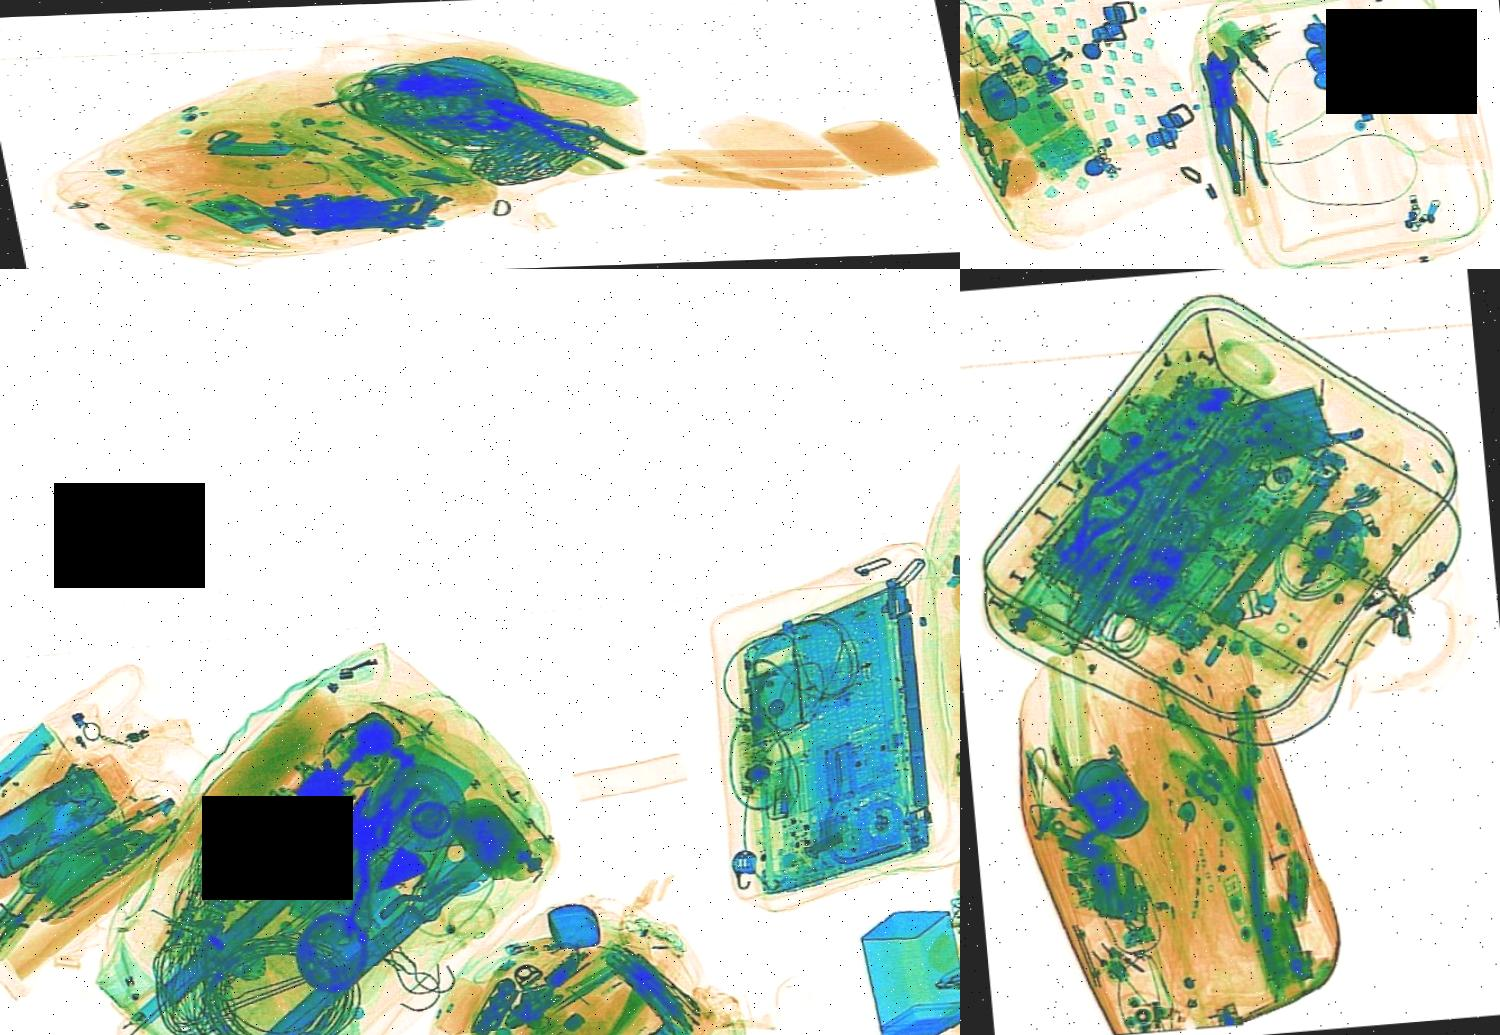Pliers: (257, 769, 436, 925), (460, 88, 676, 174), (1190, 43, 1278, 196), (1048, 451, 1152, 576)
Wrench: (1199, 40, 1251, 142)
